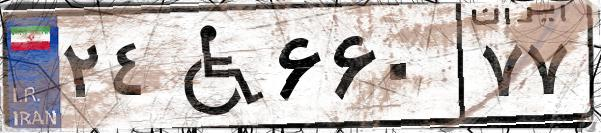0: (385, 28, 445, 110)
2: (57, 26, 110, 100)
4: (110, 28, 158, 98)
6: (270, 28, 330, 110), (330, 28, 385, 110)
7: (475, 38, 525, 113), (525, 38, 570, 115)
ژ (معلولین و جانبازان): (158, 12, 270, 120)
